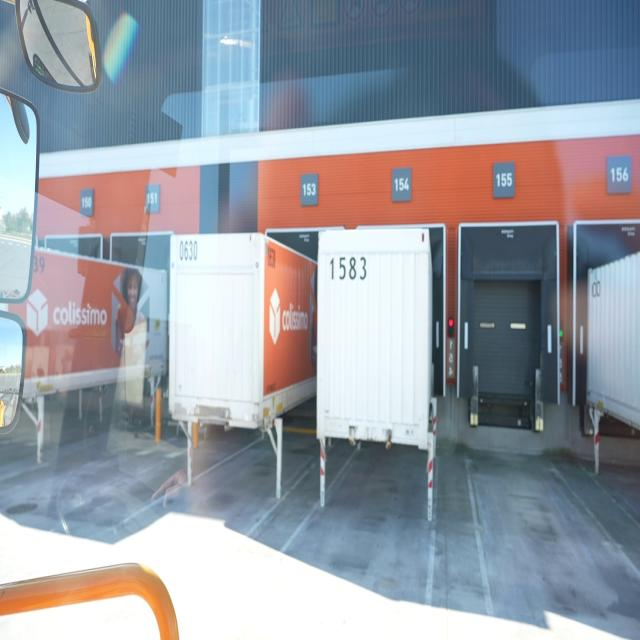Code: (327, 250, 368, 286), (177, 236, 199, 263)
